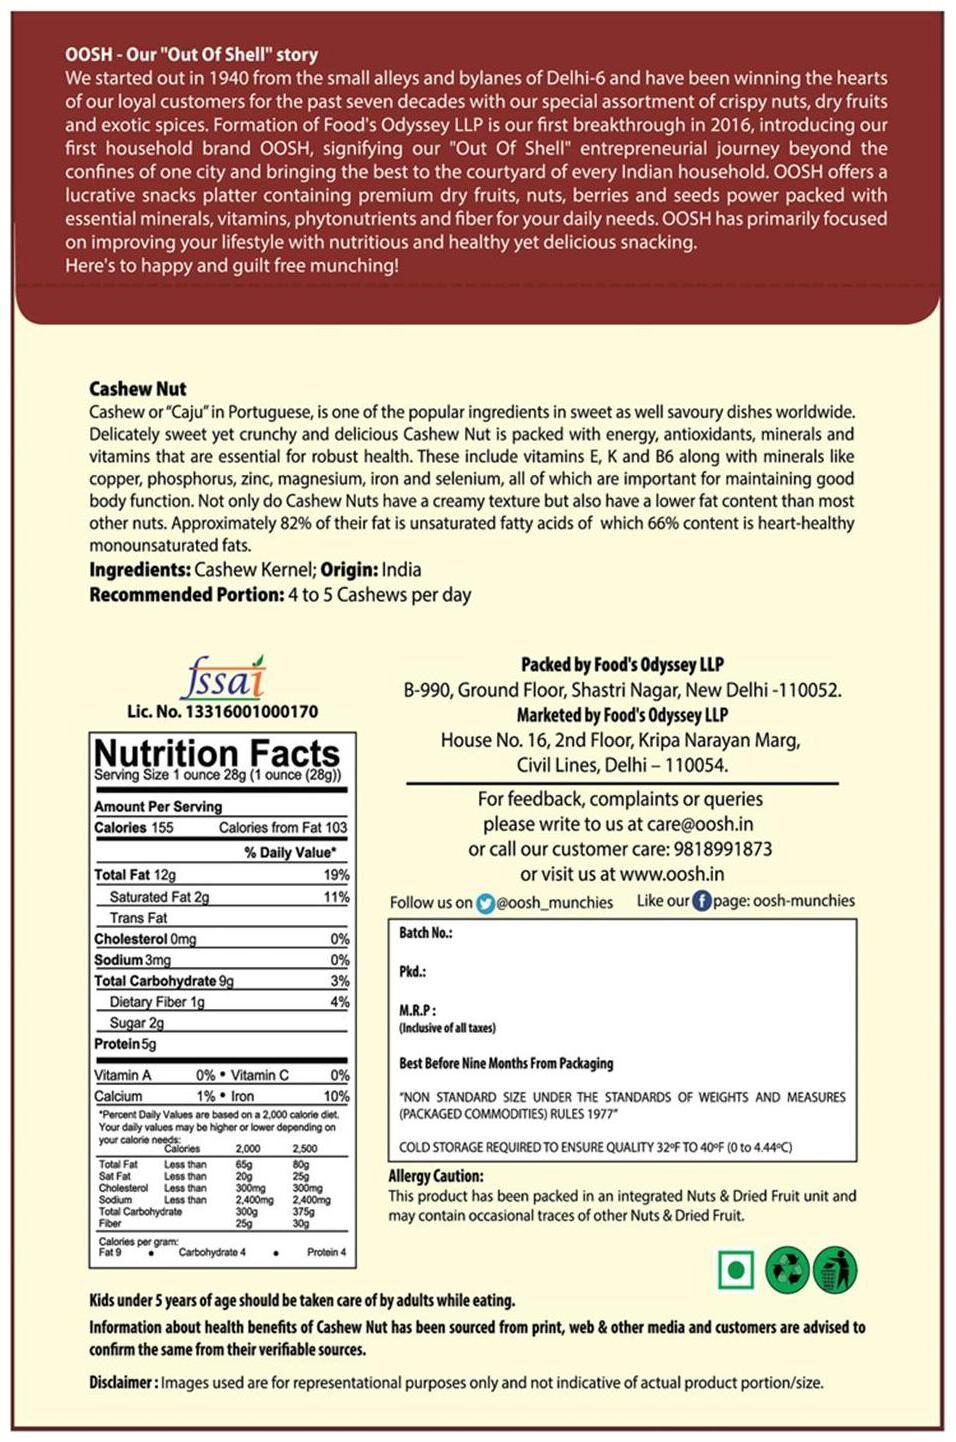fsaai: (178, 654, 270, 702)
